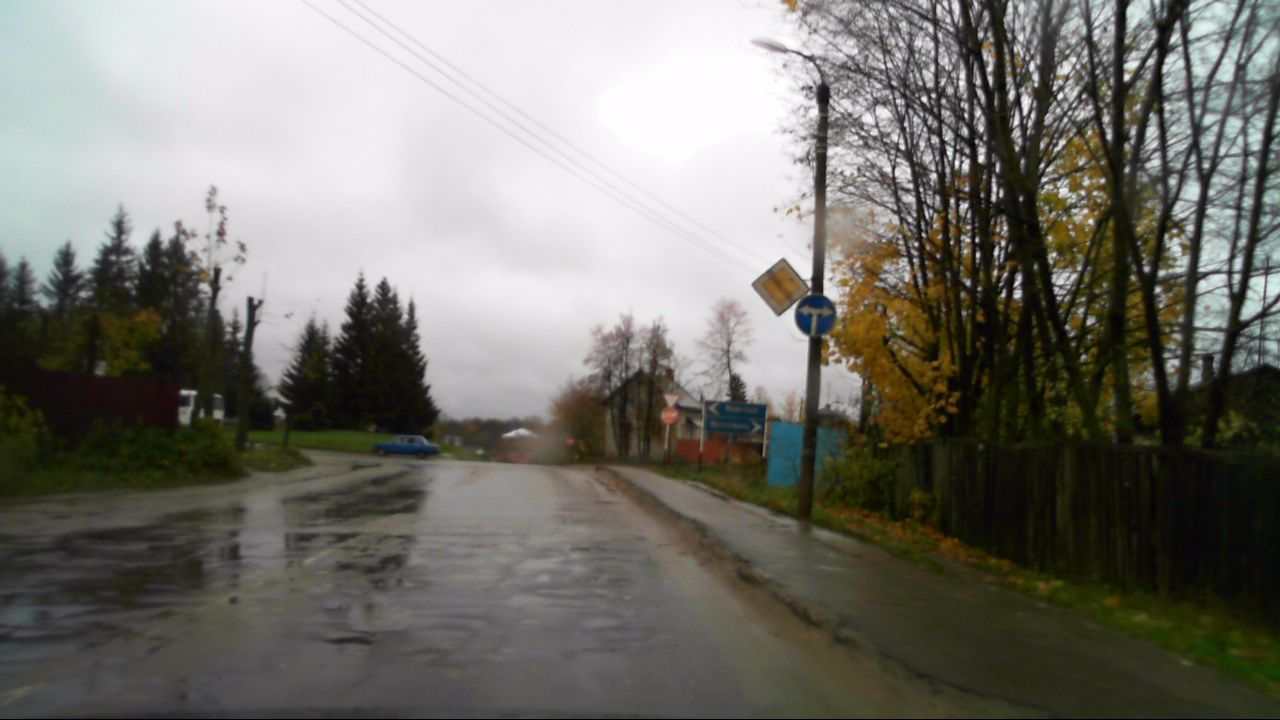main road: (752, 258, 809, 317)
